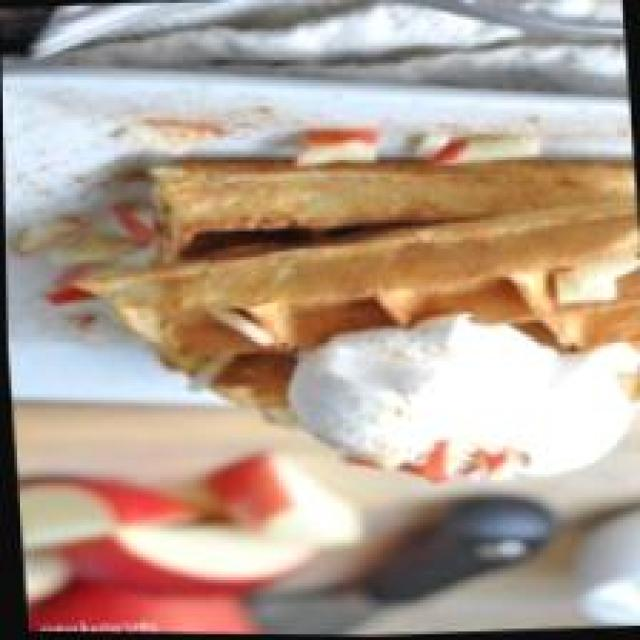Waffles: (77, 123, 640, 457)
